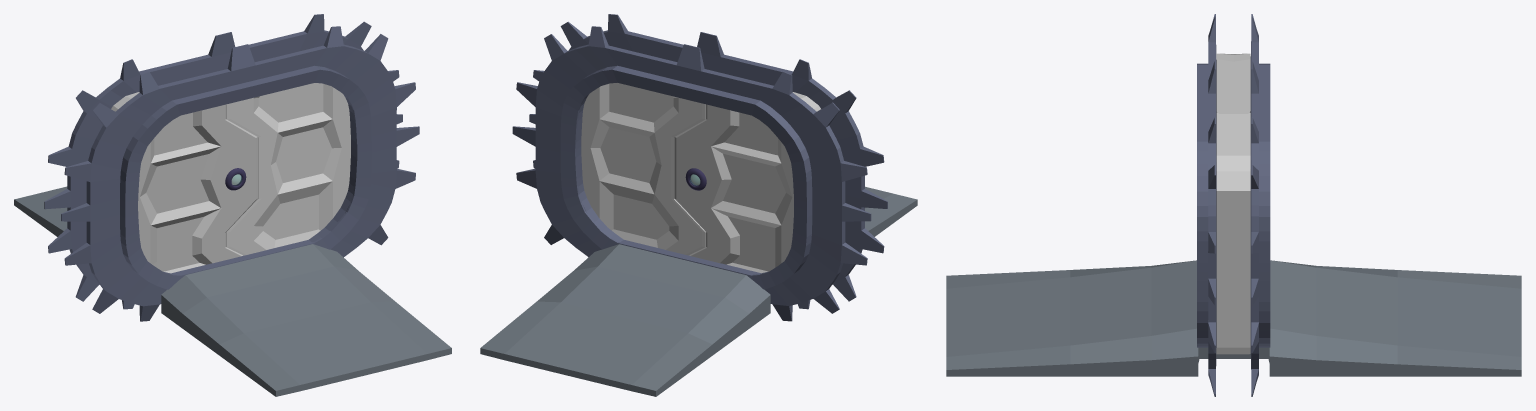
Rendered from door.fbx.
The picture shows the model from 3 angles, left to right: view 1: azimuth 30°, elevation 25°; view 2: azimuth 150°, elevation 25°; view 3: azimuth 270°, elevation 25°; orthographic projection. The views are drawn at different scales.
Parts seen in each view (by area): view 1: DoorContainer, walkingRamp, doorRight, doorLeft; view 2: DoorContainer, walkingRamp, doorRight, doorLeft; view 3: walkingRamp, DoorContainer, doorRight, doorLeft.
Part boxes in pixels (x1,y1,x2,y2): DoorContainer: (44, 14, 419, 321); walkingRamp: (14, 186, 451, 396); doorRight: (226, 83, 350, 255); doorLeft: (111, 92, 257, 273); DoorContainer: (512, 14, 887, 321); walkingRamp: (480, 186, 917, 396); doorRight: (581, 83, 705, 255); doorLeft: (674, 92, 820, 273); walkingRamp: (946, 260, 1521, 376); DoorContainer: (1197, 14, 1270, 396); doorRight: (1216, 112, 1250, 354); doorLeft: (1216, 53, 1250, 113).
Bounding box in the file's own units: 11.05 × 7.53 × 13.99.
